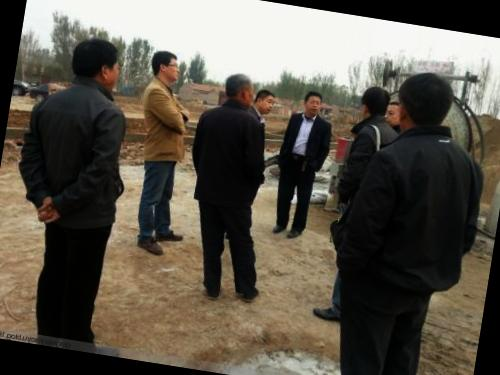no_helmet: (393, 66, 461, 138), (66, 32, 125, 92), (218, 68, 258, 112), (146, 45, 185, 88), (356, 82, 392, 126), (298, 86, 328, 120), (252, 84, 280, 118), (382, 97, 406, 132)
